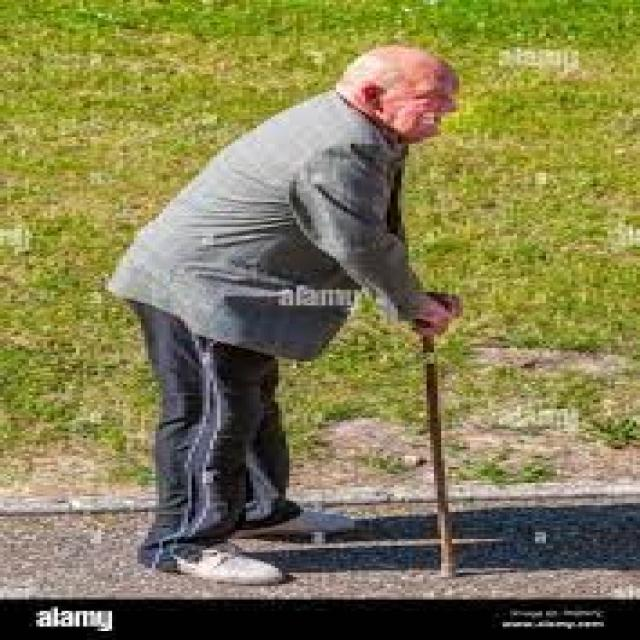idoso em pe: (98, 41, 469, 593)
